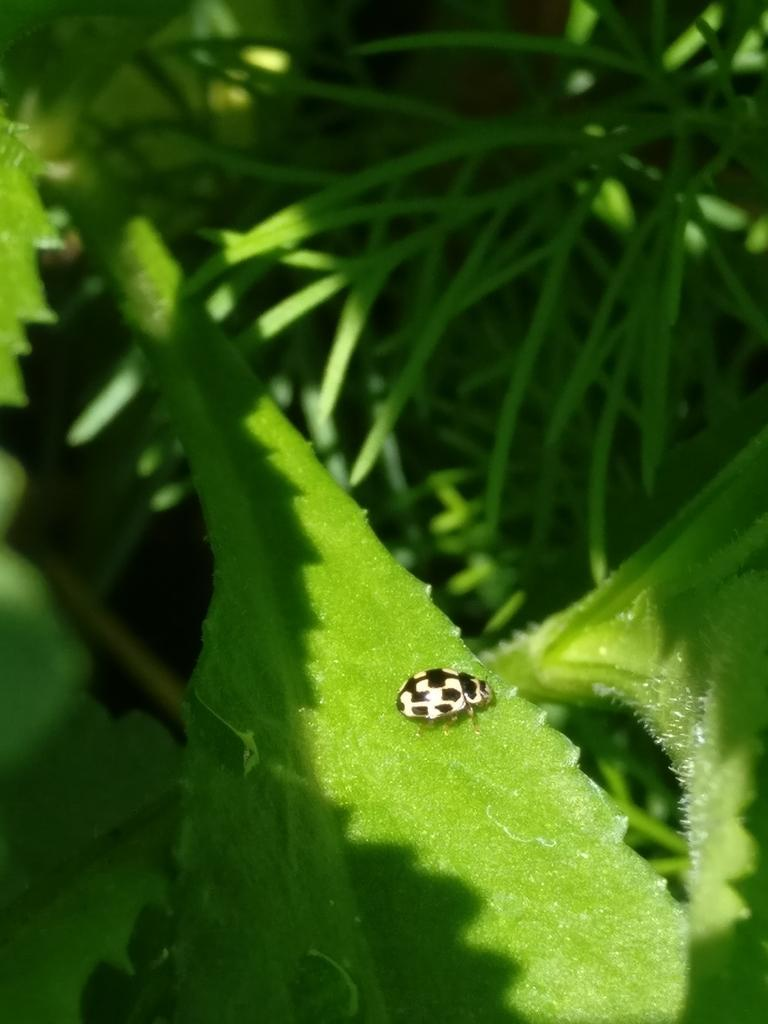ladybug: (394, 664, 501, 734)
